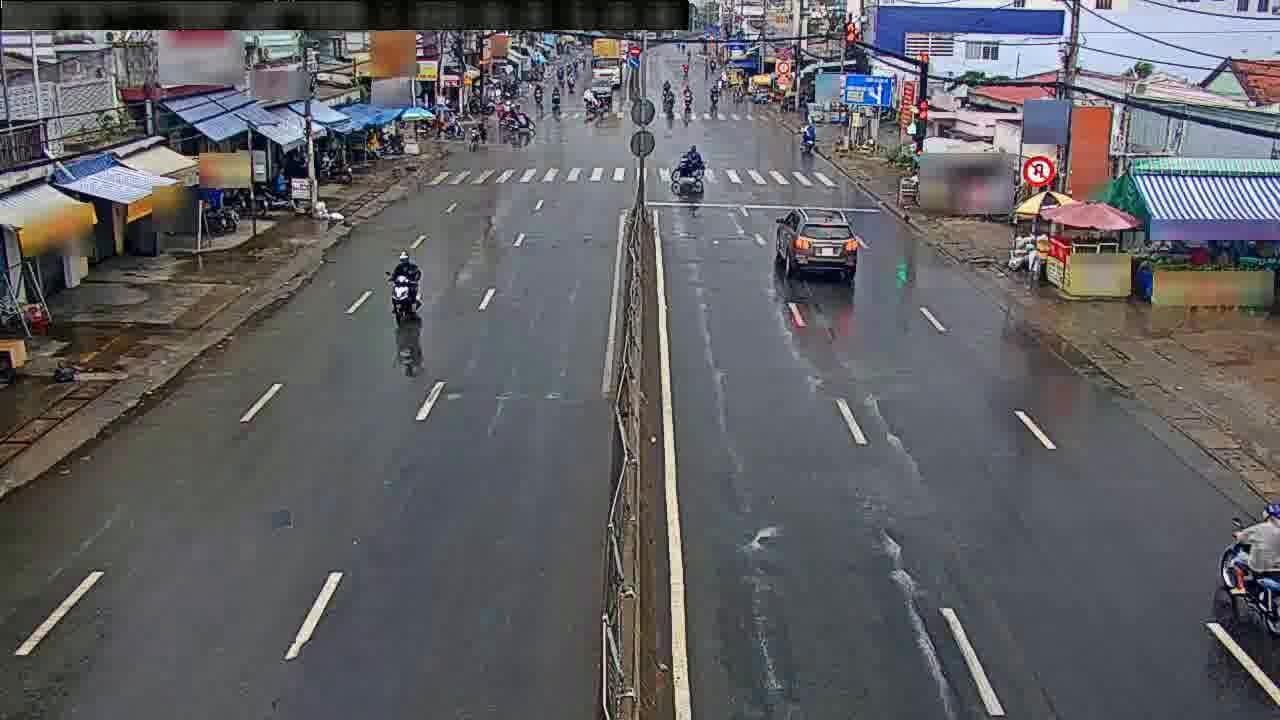container: (771, 208, 864, 278)
motorbike: (385, 246, 427, 322), (671, 143, 702, 185), (792, 116, 822, 154)
